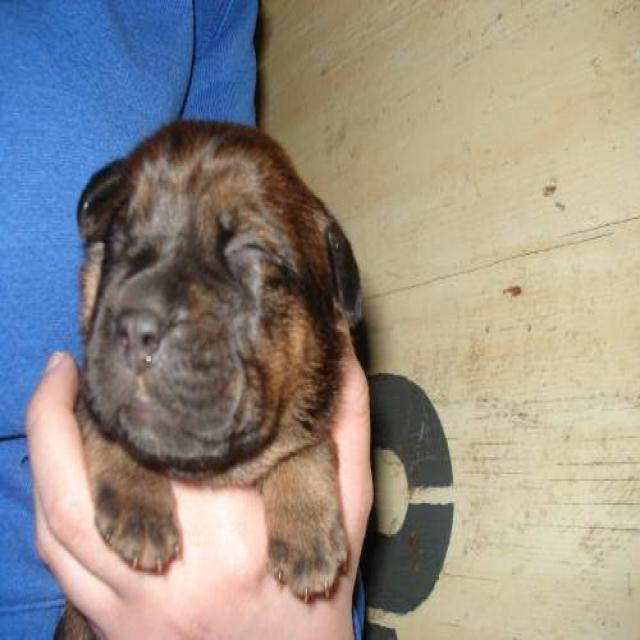dog: (49, 115, 371, 638)
